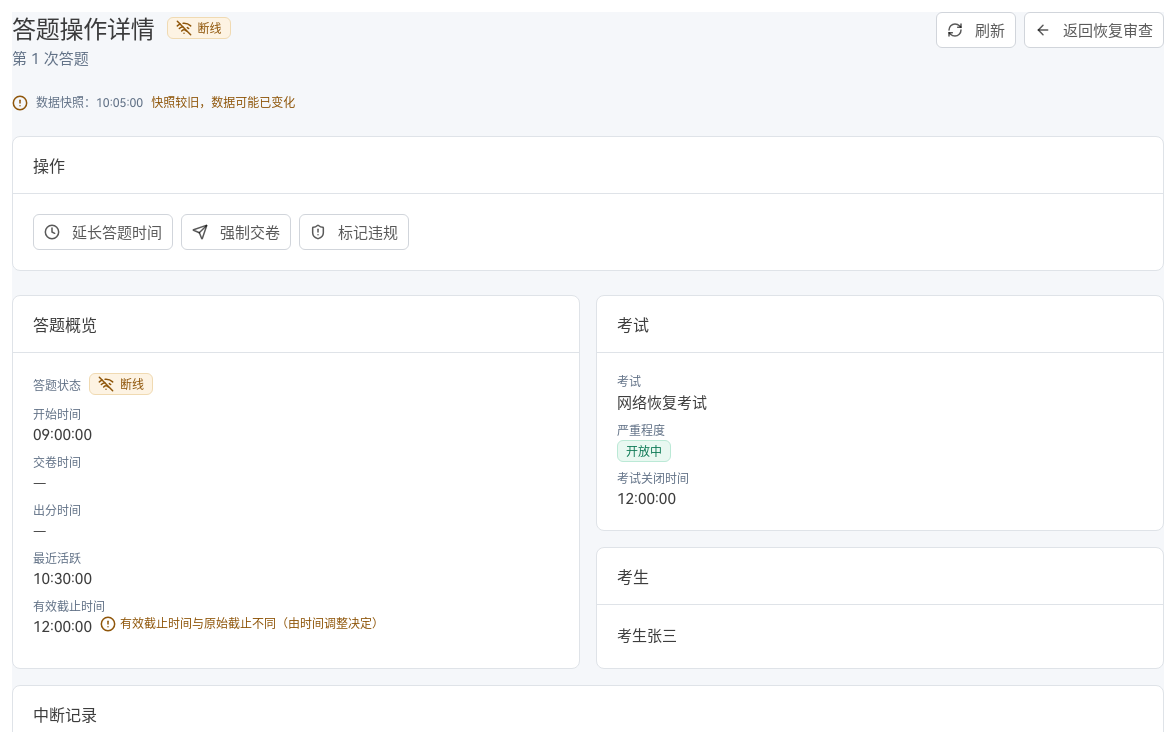
Test: RecoveryAttemptDetailPage › keeps the loaded page on screen with an inline warning when a background refresh fails
The image size is (1164, 732).
Check: the text "第 1 次答题" is shown, box 12,50 -> 89,68
Click the button "刷新".
click(976, 30)  # box 936,12 -> 1016,48
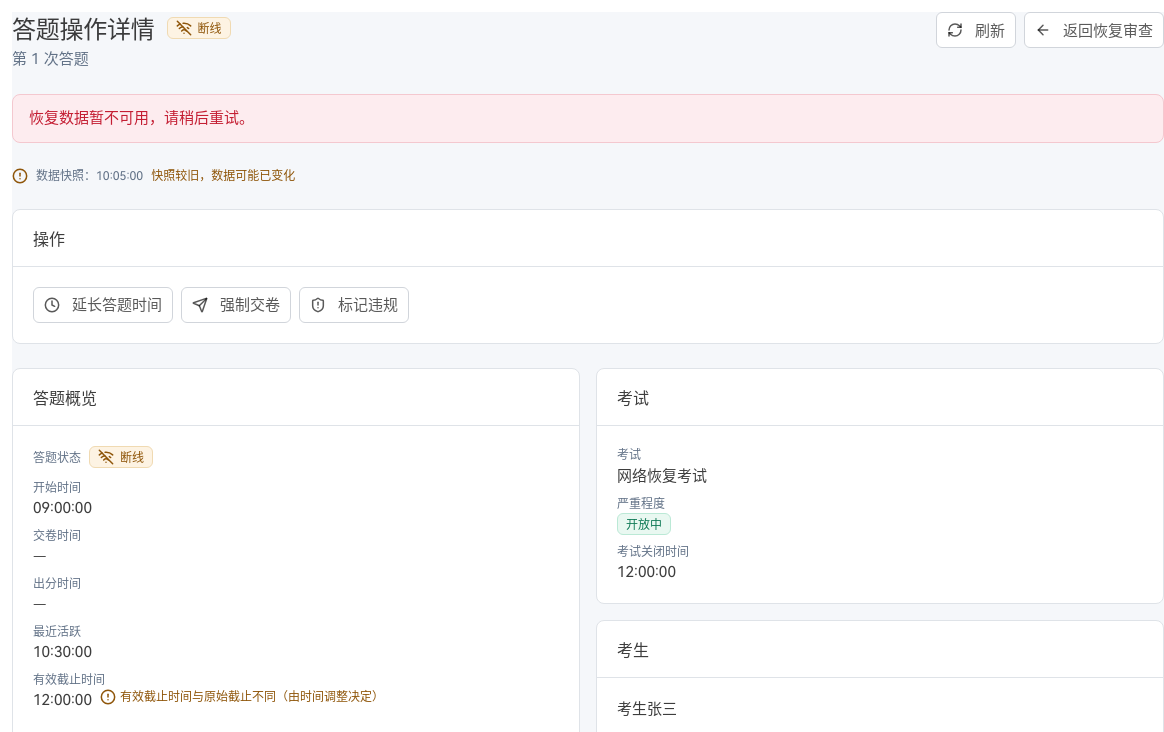
Check: the text "第 1 次答题" is shown, box 12,50 -> 89,68
Check: the text "恢复数据暂不可用，请稍后重试。" is shown, box 12,94 -> 1163,142
